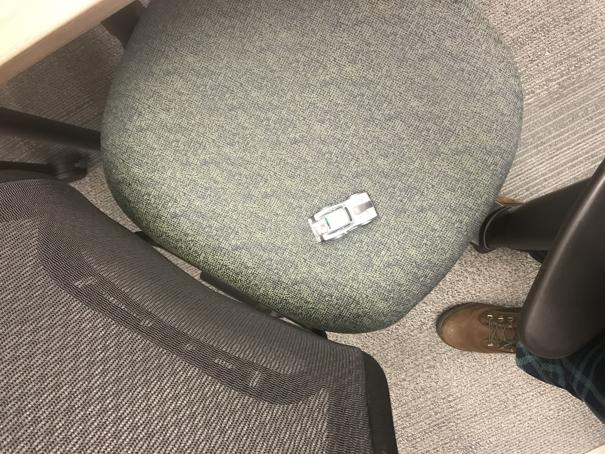Charger: (306, 189, 382, 245)
